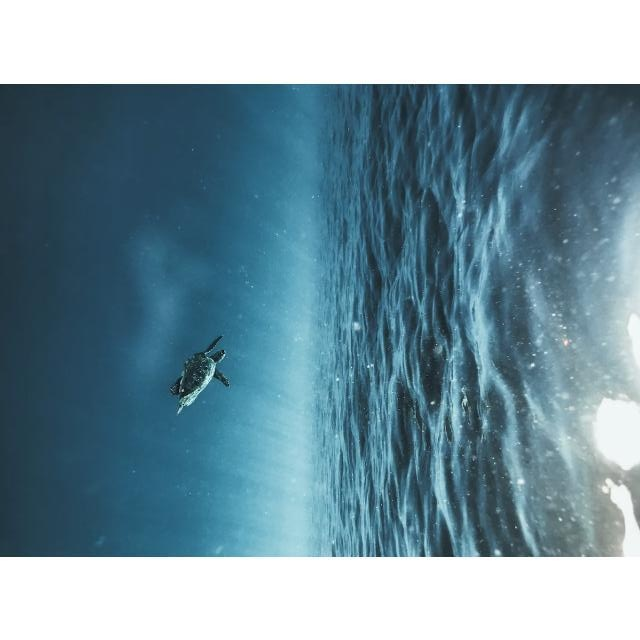turtle: (168, 335, 229, 415)
